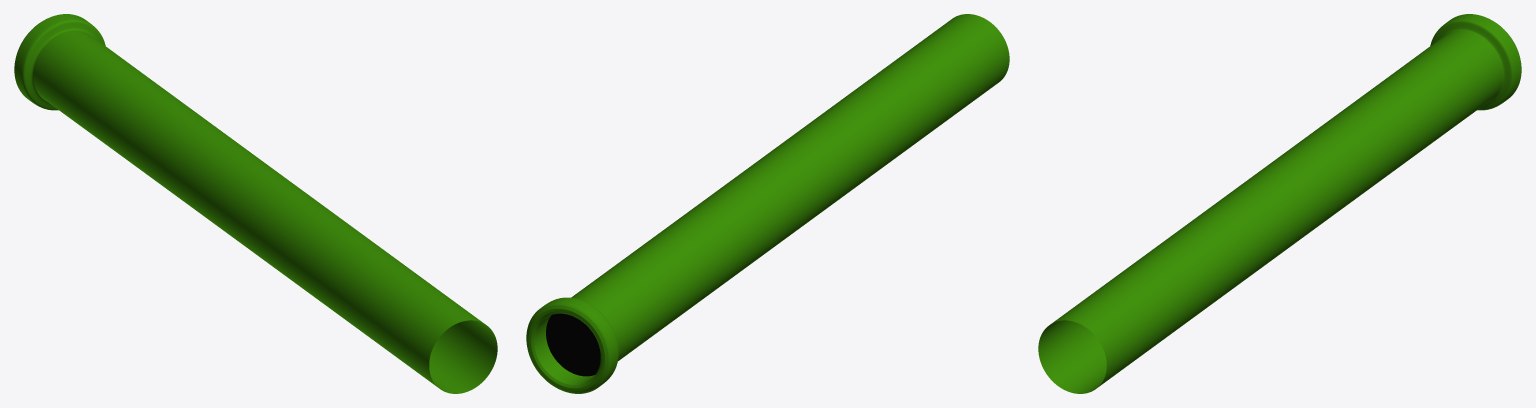
3 views of the same model, side by side, from view 1: azimuth 30°, elevation 25°; view 2: azimuth 150°, elevation 25°; view 3: azimuth 330°, elevation 25° (orthographic).
Visible parts, largest first — view 1: Cylinder; view 2: Cylinder; view 3: Cylinder.
Part boxes in pixels (x1,y1,x2,y2): Cylinder: [14, 14, 497, 393]; Cylinder: [526, 14, 1009, 393]; Cylinder: [1038, 14, 1521, 393].
Size of the model in its own units: 247 by 247 by 2055.
